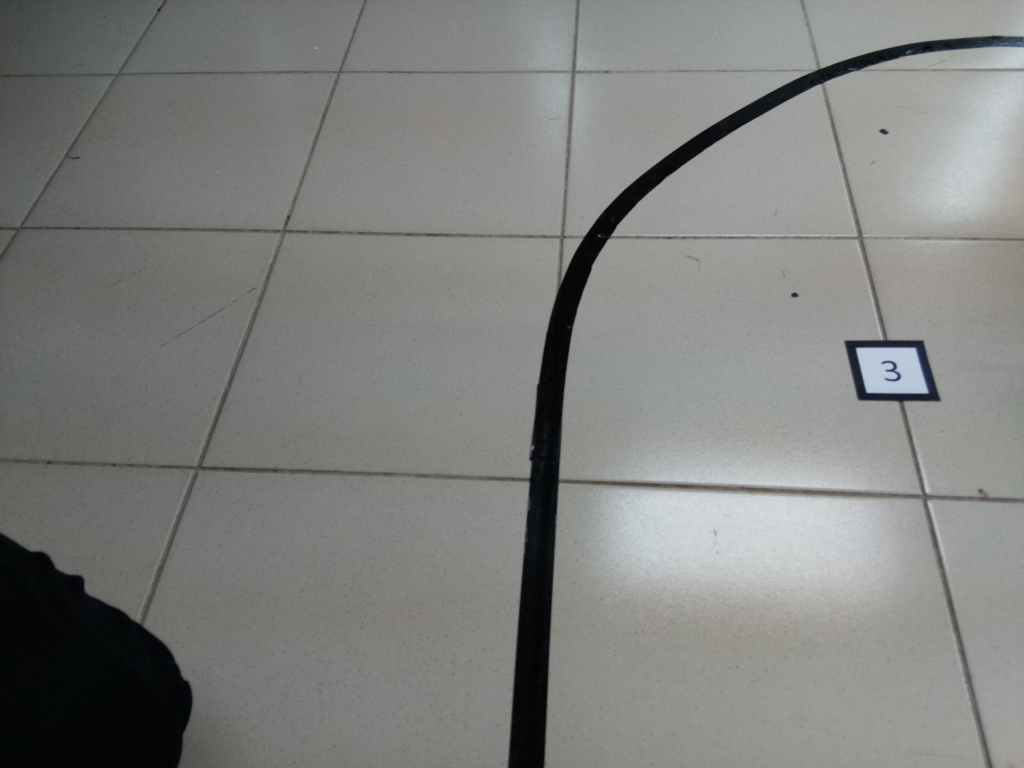right: (530, 30, 1024, 338)
